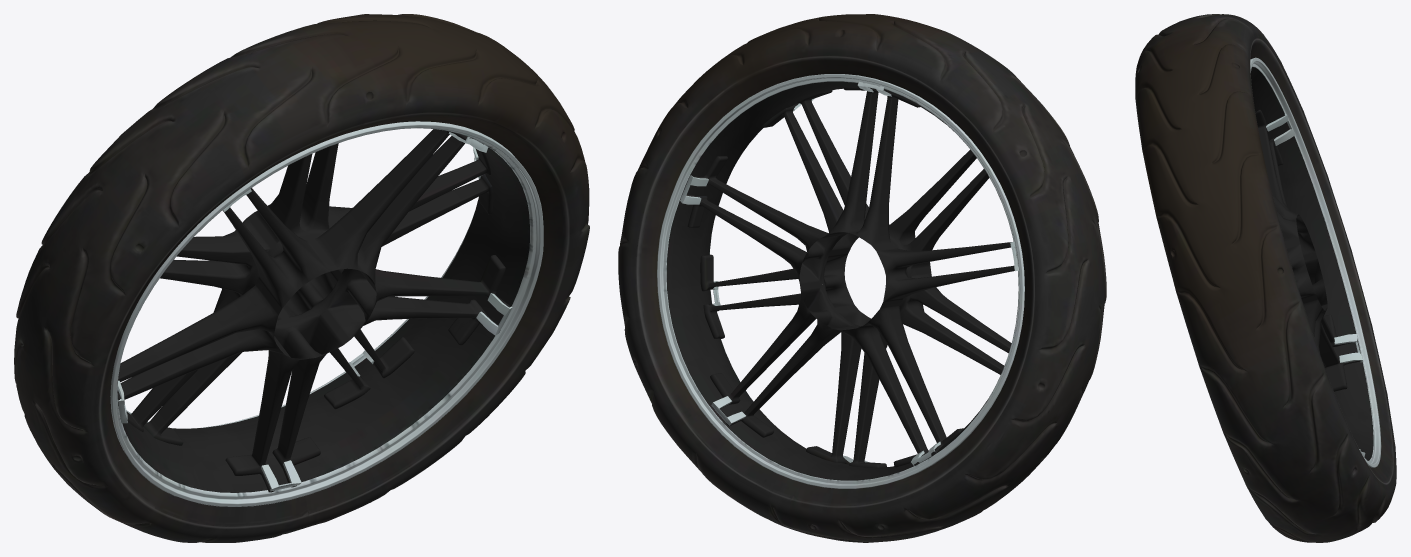
File: ruota_ant_21.glb
3 views of the same model, side by side, from view 1: azimuth 30°, elevation 25°; view 2: azimuth 150°, elevation 25°; view 3: azimuth 270°, elevation 25° (orthographic). The views are drawn at different scales.
Parts seen in each view (by area): view 1: ricambio; view 2: ricambio; view 3: ricambio.
Boxes of the visible parts, x1,y1,x2,y2 form: ricambio: (14,14,589,542); ricambio: (618,14,1106,542); ricambio: (1135,14,1396,542).
Bounding box in the file's own units: 0.6924 × 0.6712 × 0.3332.
Materials: 3 (3 with a texture image).
